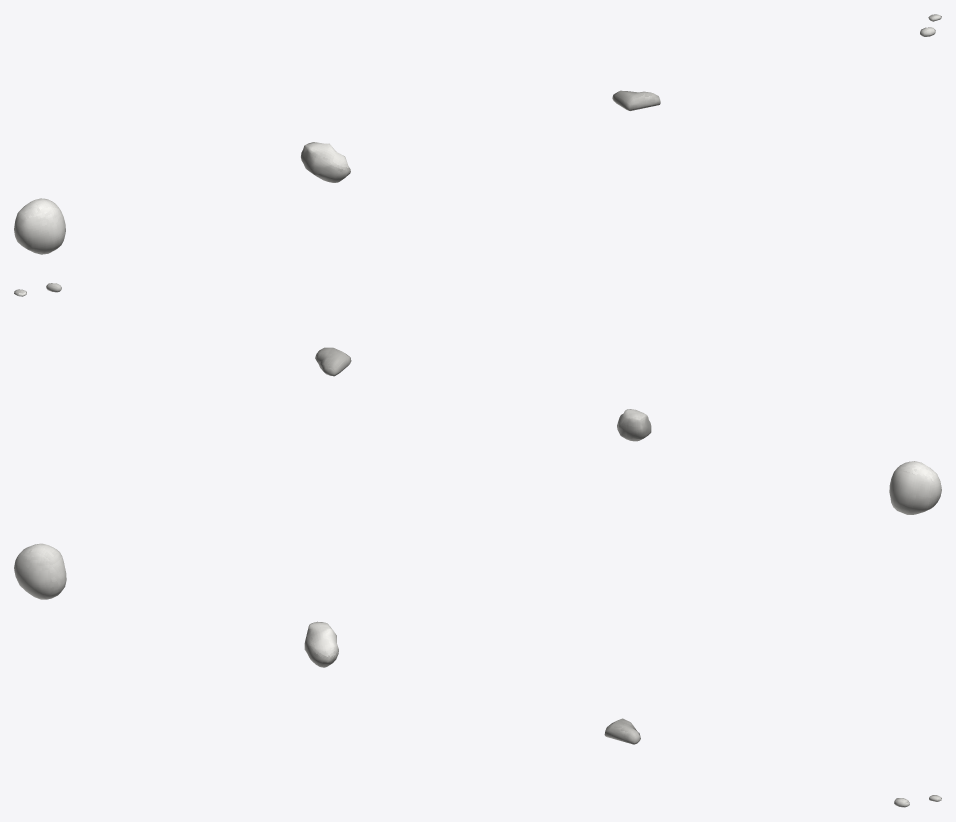
File: powder.glb
3 views of the same model, one above another, from view 1: azimuth 30°, elevation 25°; view 2: azimuth 150°, elevation 25°; view 3: azimuth 330°, elevation 25° (orthographic).
Visible parts, largest first — view 1: prop_powder_felt; view 2: prop_powder_felt; view 3: prop_powder_felt.
Part boxes in pixels (<box>): prop_powder_felt: <box>14,14,941,254</box>; prop_powder_felt: <box>14,283,941,514</box>; prop_powder_felt: <box>14,543,941,807</box>.
Bounding box in the file's own units: 0.8265 × 0.0448 × 0.0344.
1 material, 1 textured.
